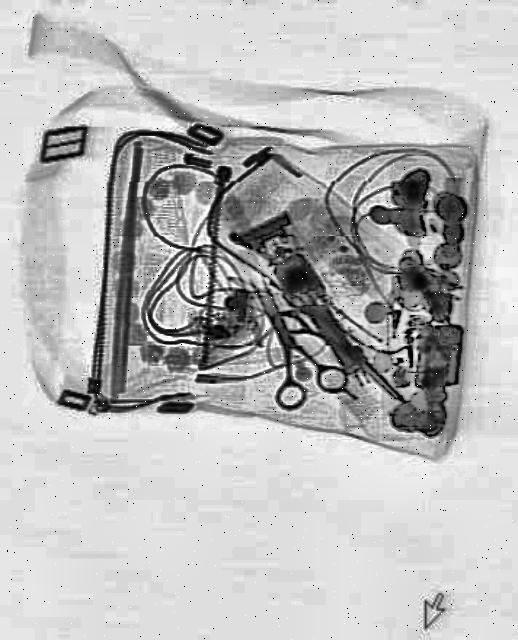Scissors: (224, 259, 350, 425)
